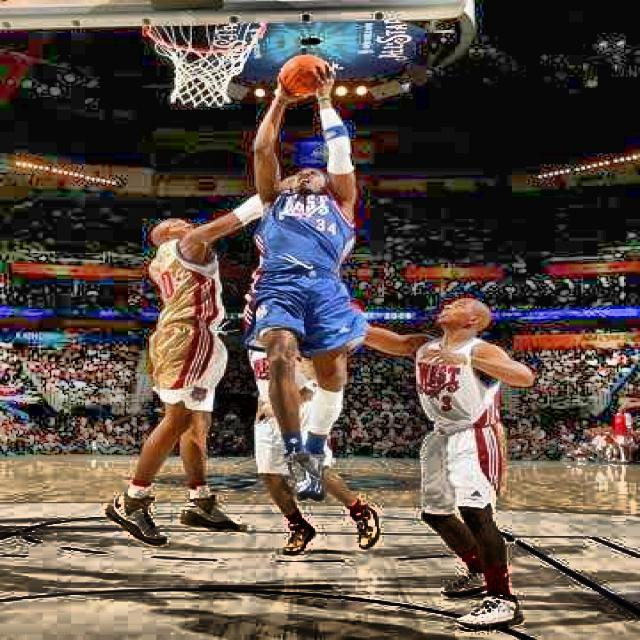rim: (141, 22, 266, 107)
